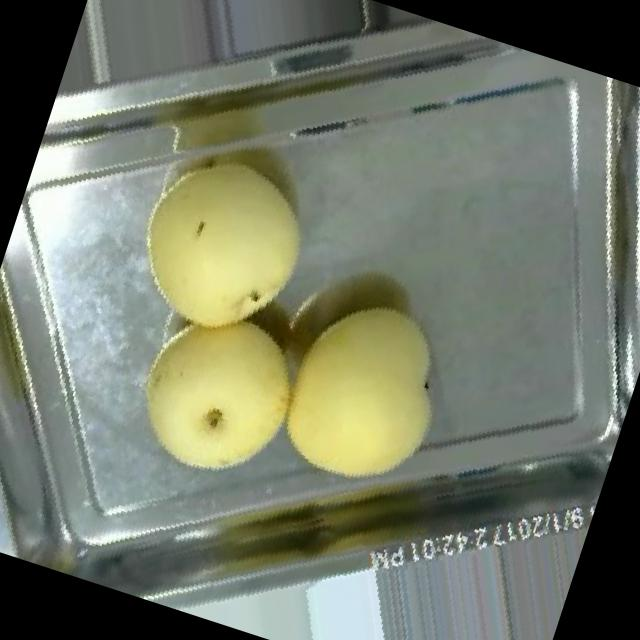Fruit: (243, 258, 494, 532), (97, 110, 359, 372), (106, 278, 325, 507)
